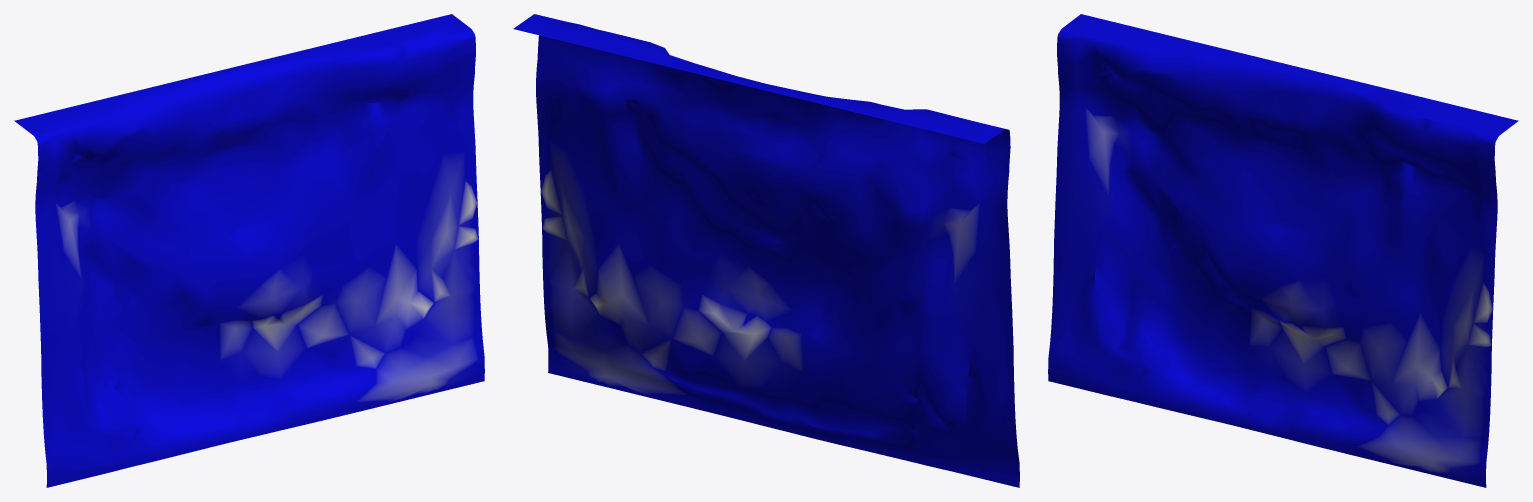
File: GeoTerrainCliffSide03.fbx
3 renders of one model, left to right at view 1: azimuth 30°, elevation 25°; view 2: azimuth 150°, elevation 25°; view 3: azimuth 330°, elevation 25°, orthographic. The views are drawn at different scales.
Parts seen in each view (by area): view 1: GeoTerrainCliffSide03_LOD0; view 2: GeoTerrainCliffSide03_LOD0; view 3: GeoTerrainCliffSide03_LOD0.
Part boxes in pixels (x1=…): GeoTerrainCliffSide03_LOD0: x1=14, y1=14, x2=484, y2=487; GeoTerrainCliffSide03_LOD0: x1=513, y1=14, x2=1019, y2=487; GeoTerrainCliffSide03_LOD0: x1=1048, y1=14, x2=1518, y2=487.
Size of what is drawn, in the model's own units: 2000 by 1499 by 261.
